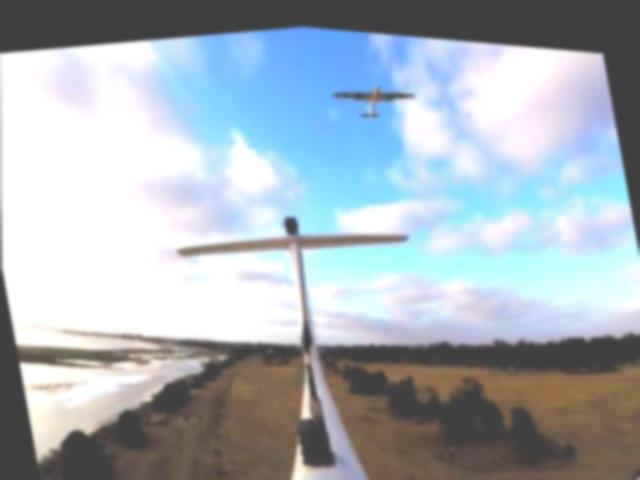uav: (322, 55, 423, 130)
